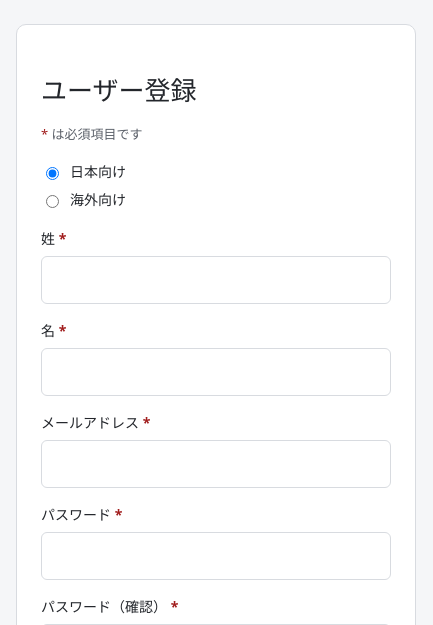
RegisterPage › 姓名は入力済みだがメールアドレス等が未入力の場合は全ての項目を入力してくださいと表示する
The image size is (433, 625).
Step 1. Type "山田" into the field labelled "姓" → point(216, 280), box 41,256 -> 391,304
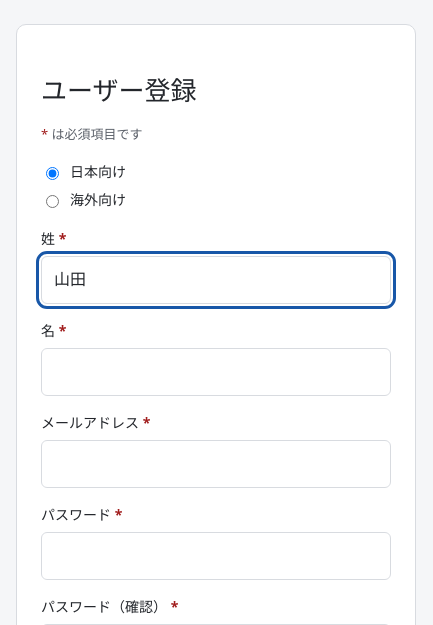
Step 2. Type "太郎" into the field labelled "名" → point(216, 372), box 41,348 -> 391,396
(page scrolled)
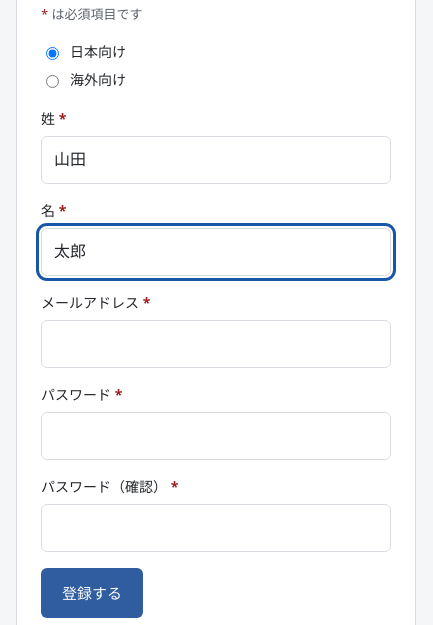
Step 3. Click the button "登録する" → point(92, 593), box 41,568 -> 143,618
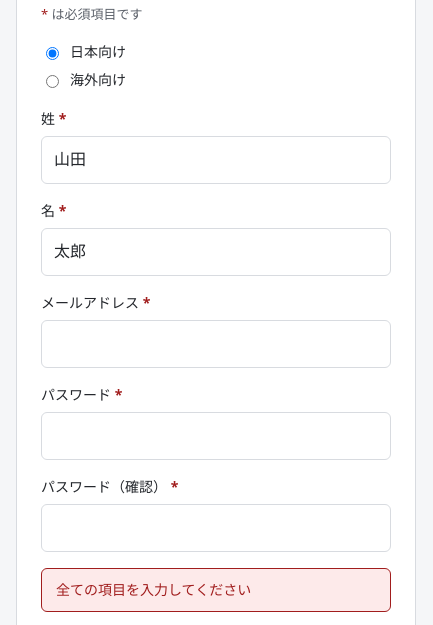
Now the message reads "全ての項目を入力してください", box 56,580 -> 251,599
